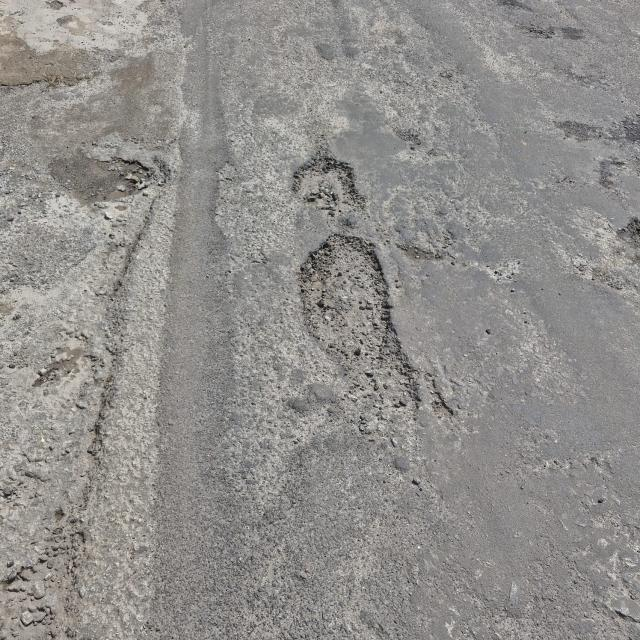pothole: (288, 230, 428, 429), (32, 330, 125, 475), (44, 130, 176, 215), (9, 518, 86, 640), (285, 149, 373, 219), (528, 13, 587, 47), (562, 111, 640, 135), (592, 150, 629, 191), (619, 212, 640, 254)
